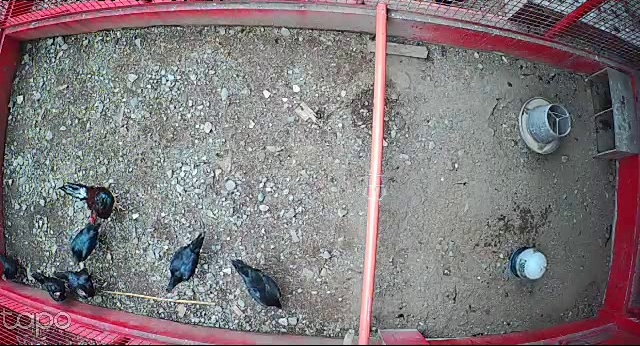Chicken: (231, 255, 287, 311), (164, 231, 207, 295), (48, 266, 104, 305), (67, 216, 104, 268), (29, 270, 73, 304), (1, 241, 26, 289)
Drinker: (509, 246, 548, 281)
Feeder: (517, 93, 572, 157)
Rooster: (57, 182, 128, 225)
